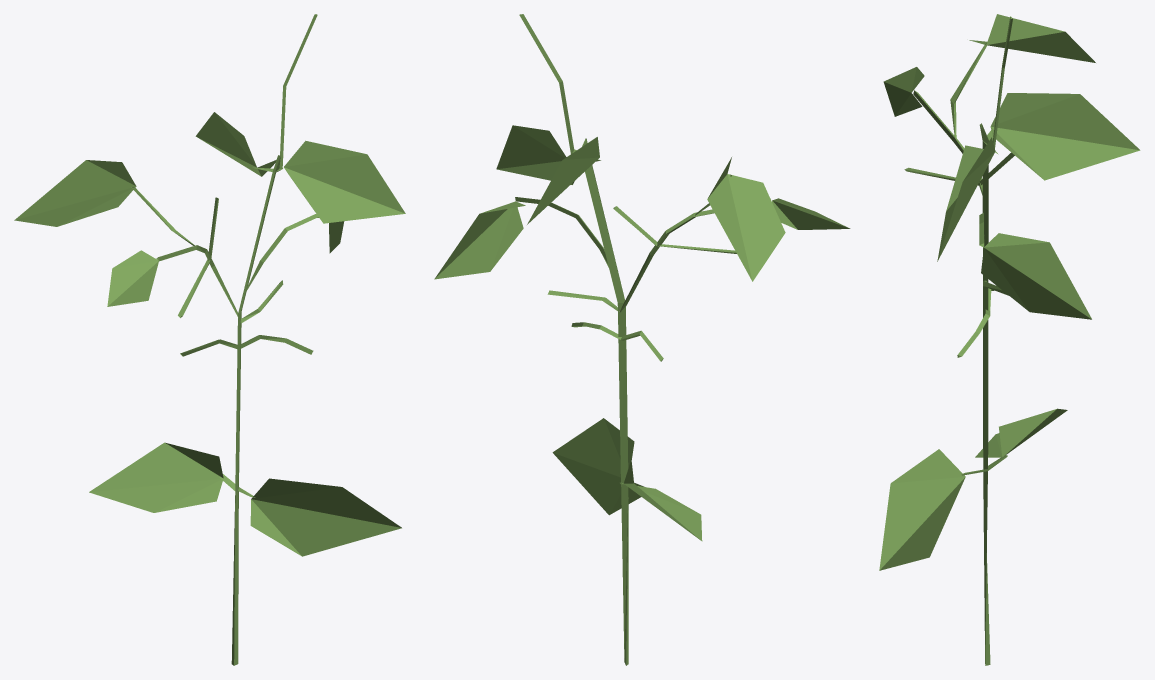
The model's file is Pepper_7.fbx.
3 renders of one model, left to right at view 1: azimuth 30°, elevation 25°; view 2: azimuth 150°, elevation 25°; view 3: azimuth 270°, elevation 25°, orthographic. The views are drawn at different scales.
Visible parts, largest first — view 1: polySurface127; view 2: polySurface127; view 3: polySurface127.
Part boxes in pixels (box(x1,y1,x2,y2)): polySurface127: box(14, 14, 405, 665); polySurface127: box(434, 14, 850, 665); polySurface127: box(879, 14, 1140, 665).
Size of the model in its own units: 135 by 249 by 84.43.
